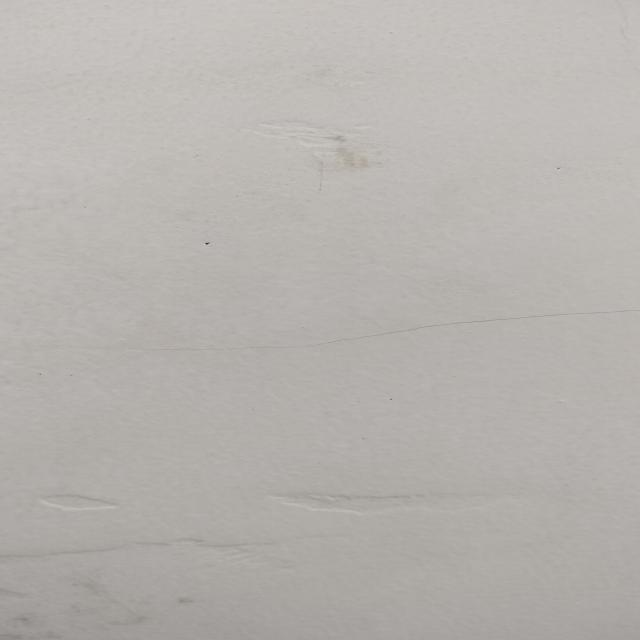Crack: (57, 305, 640, 359)
